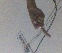hand: (24, 6, 53, 38)
